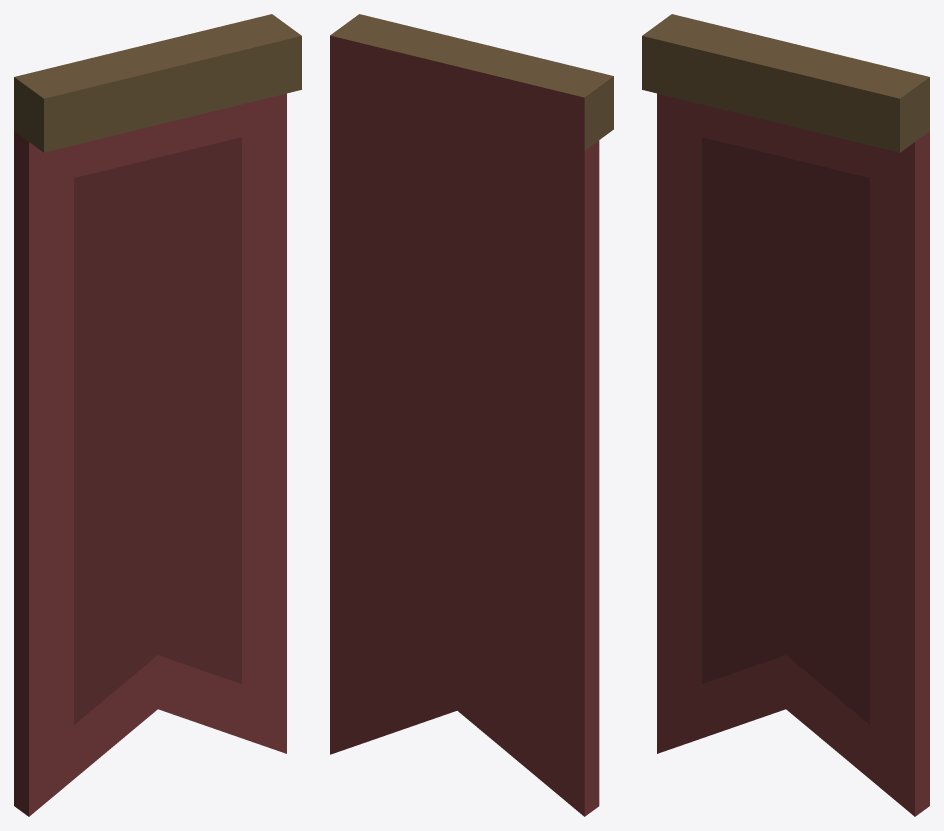
The model's file is Banner_01.obj.
3 views of the same model, side by side, from view 1: azimuth 30°, elevation 25°; view 2: azimuth 150°, elevation 25°; view 3: azimuth 330°, elevation 25° (orthographic).
Visible parts, largest first — view 1: Mesh1_Banner_Model; view 2: Mesh1_Banner_Model; view 3: Mesh1_Banner_Model.
Boxes of the visible parts, box(x1,y1,x2,y2) form: Mesh1_Banner_Model: box(14, 14, 301, 816); Mesh1_Banner_Model: box(330, 14, 613, 816); Mesh1_Banner_Model: box(642, 14, 929, 816).
Size of the model in its own units: 1 by 2.7 by 0.2.
